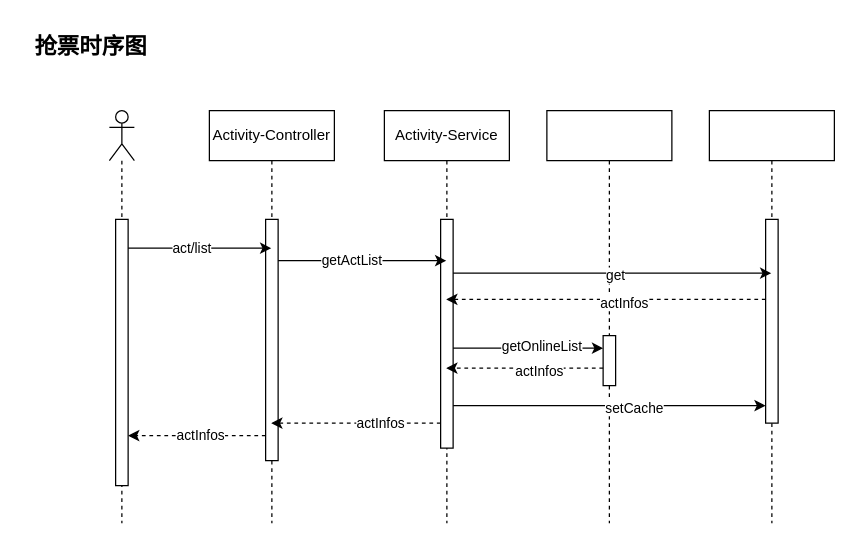
Some shapes in this 856 by 545 pixel diagram are drawn without their labels. The shapes that lost their labels are listed below. From the top down, each one's box as (x1, y1, x2, y2) in pixels, then its label:
(546, 109, 672, 523): Activity-Model
(708, 109, 834, 523): Redis
